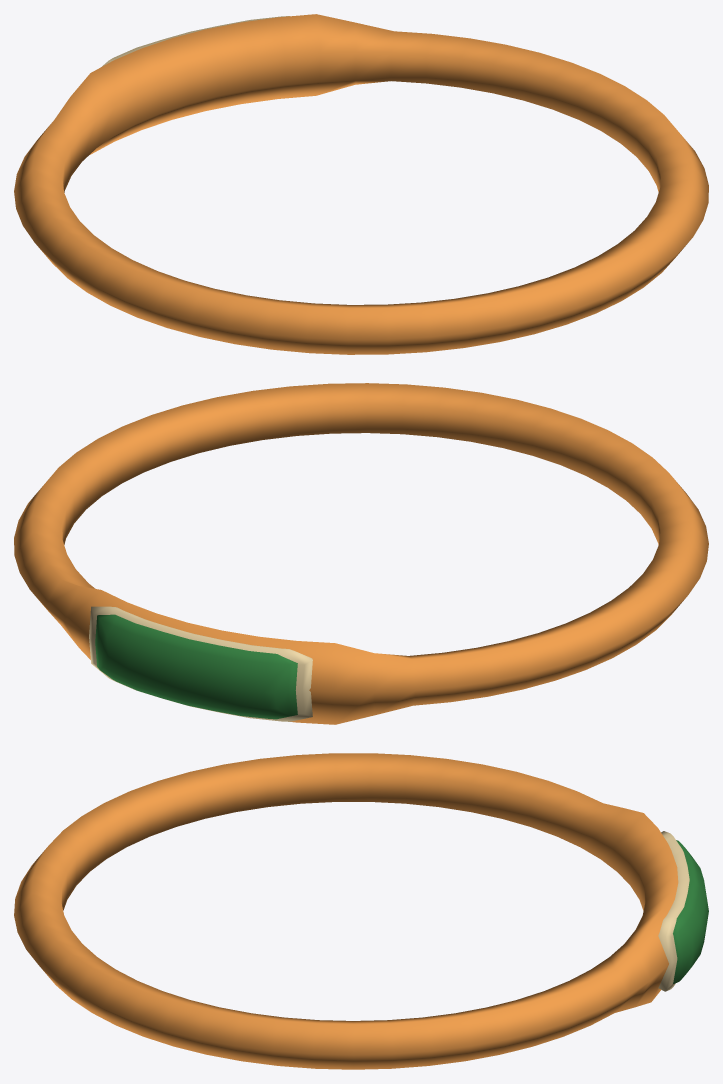
File: Ring_FBX.fbx
3 renders of one model, top to bottom at view 1: azimuth 30°, elevation 25°; view 2: azimuth 150°, elevation 25°; view 3: azimuth 270°, elevation 25°, orthographic. The views are drawn at different scales.
Parts seen in each view (by area): view 1: Ring; view 2: Ring; view 3: Ring.
Boxes of the visible parts, x1,y1,x2,y2 form: Ring: (14,14,708,354); Ring: (14,383,708,724); Ring: (14,753,708,1069).
Size of the model in its own units: 77.93 by 10.12 by 79.81.
